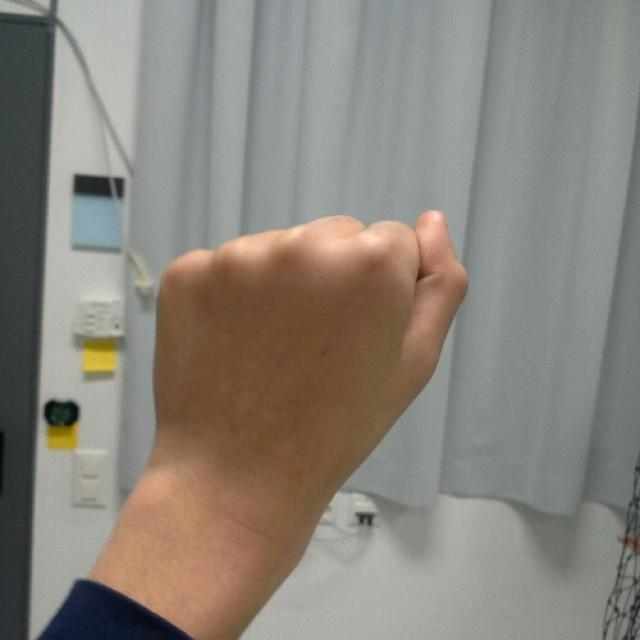rock: (155, 210, 470, 447)
